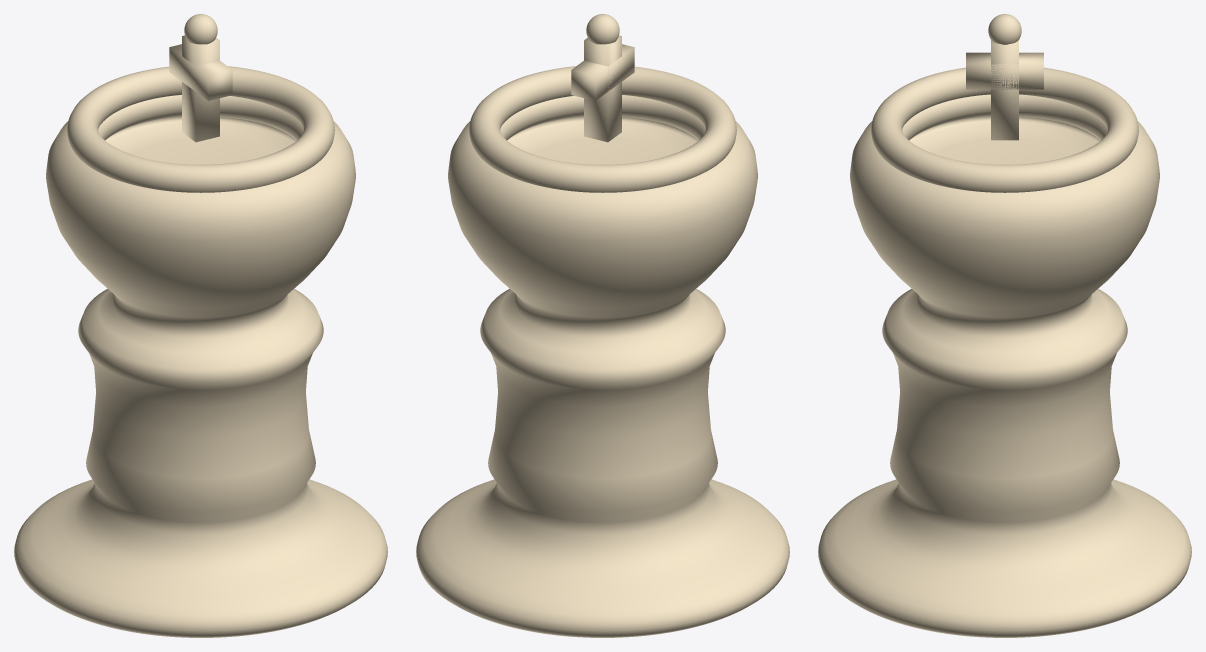
File: king.glb
3 renders of one model, left to right at view 1: azimuth 30°, elevation 25°; view 2: azimuth 150°, elevation 25°; view 3: azimuth 270°, elevation 25°, orthographic.
Parts seen in each view (by area): view 1: King; view 2: King; view 3: King.
Boxes of the visible parts, x1,y1,x2,y2 form: King: (14,14,387,637); King: (416,14,789,637); King: (818,14,1191,637).
Size of the model in its own units: 0.0587 by 0.095 by 0.0587.
